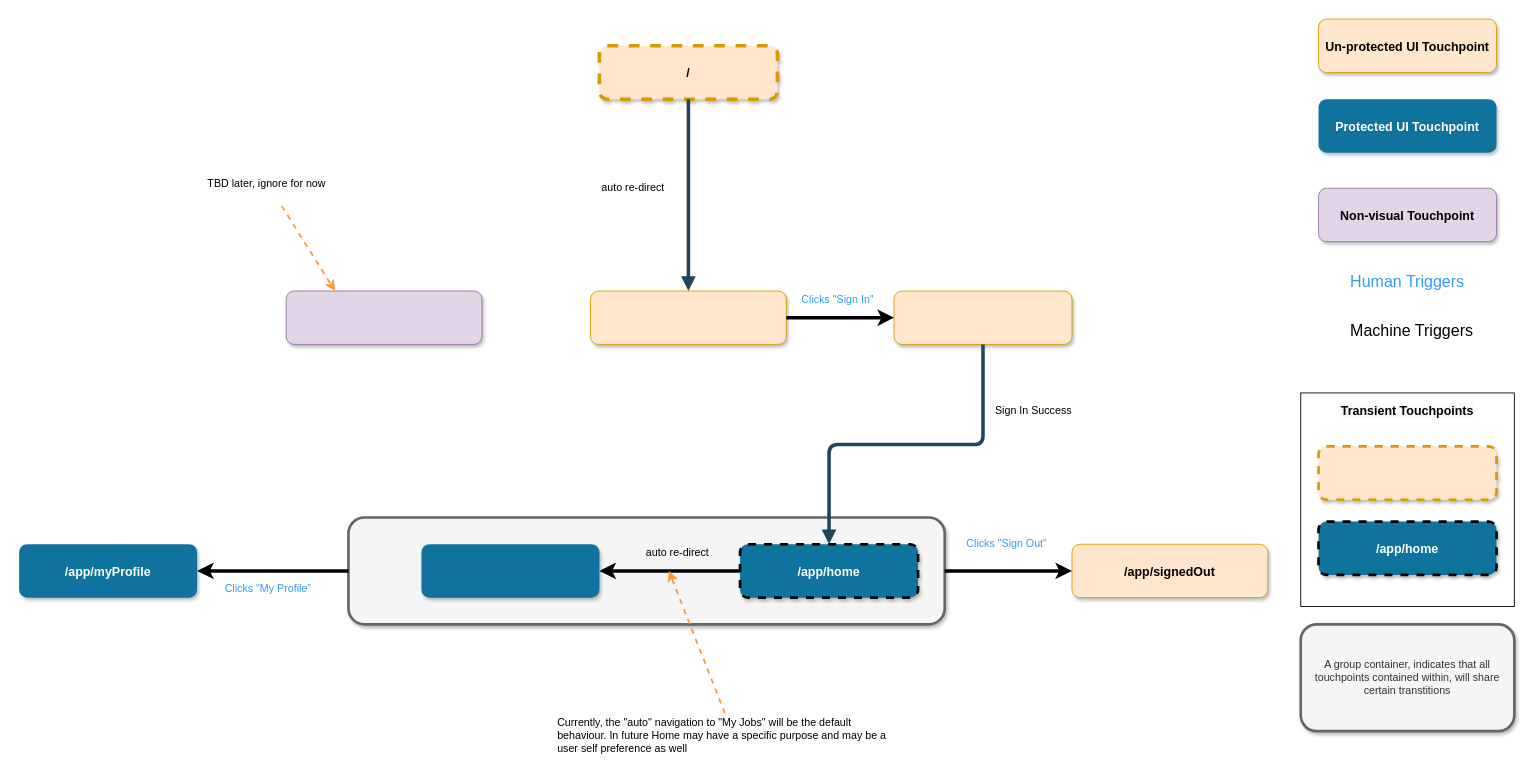
Some shapes in this 1536 by 780 pixel diagram are drawn without their labels. The centre of each missing label's shape, as x and y in pixels:
"/api" belongs at point (384, 319).
"/app" belongs at point (689, 319).
"/app/myAccount" belongs at point (510, 571).
"/app/signIn" belongs at point (983, 319).
